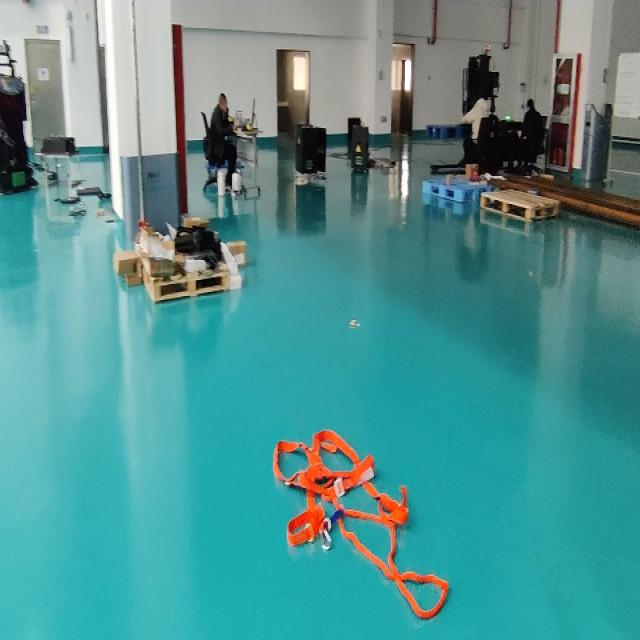euro: (143, 264, 229, 301), (481, 191, 559, 221)
